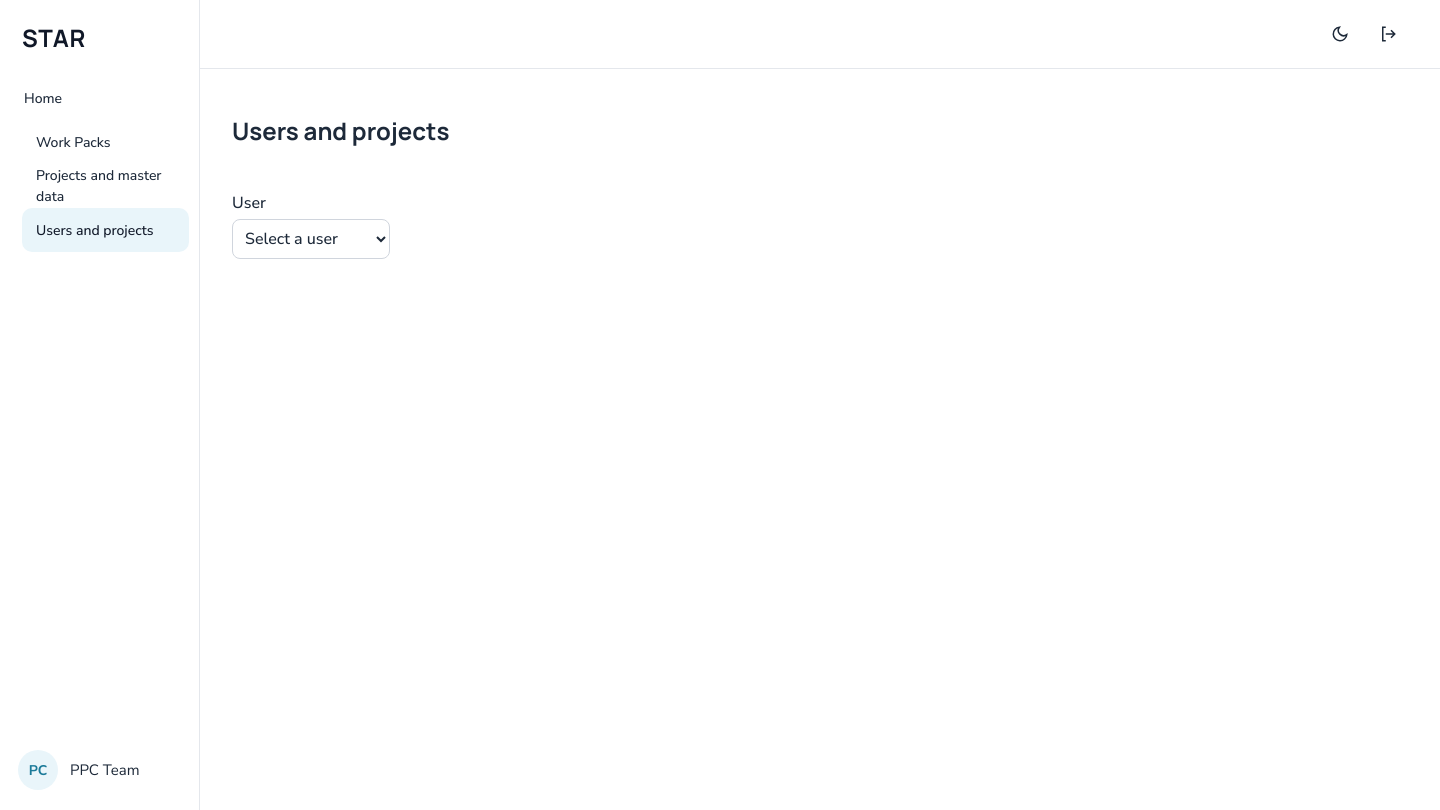
UsersPage › BPA76_unknownProjectIsRejected
This screenshot has width=1440, height=810.
Select "project-engineer" in the dropdown labelled "User". click: (311,239)
box: left=232, top=219, right=390, bottom=259
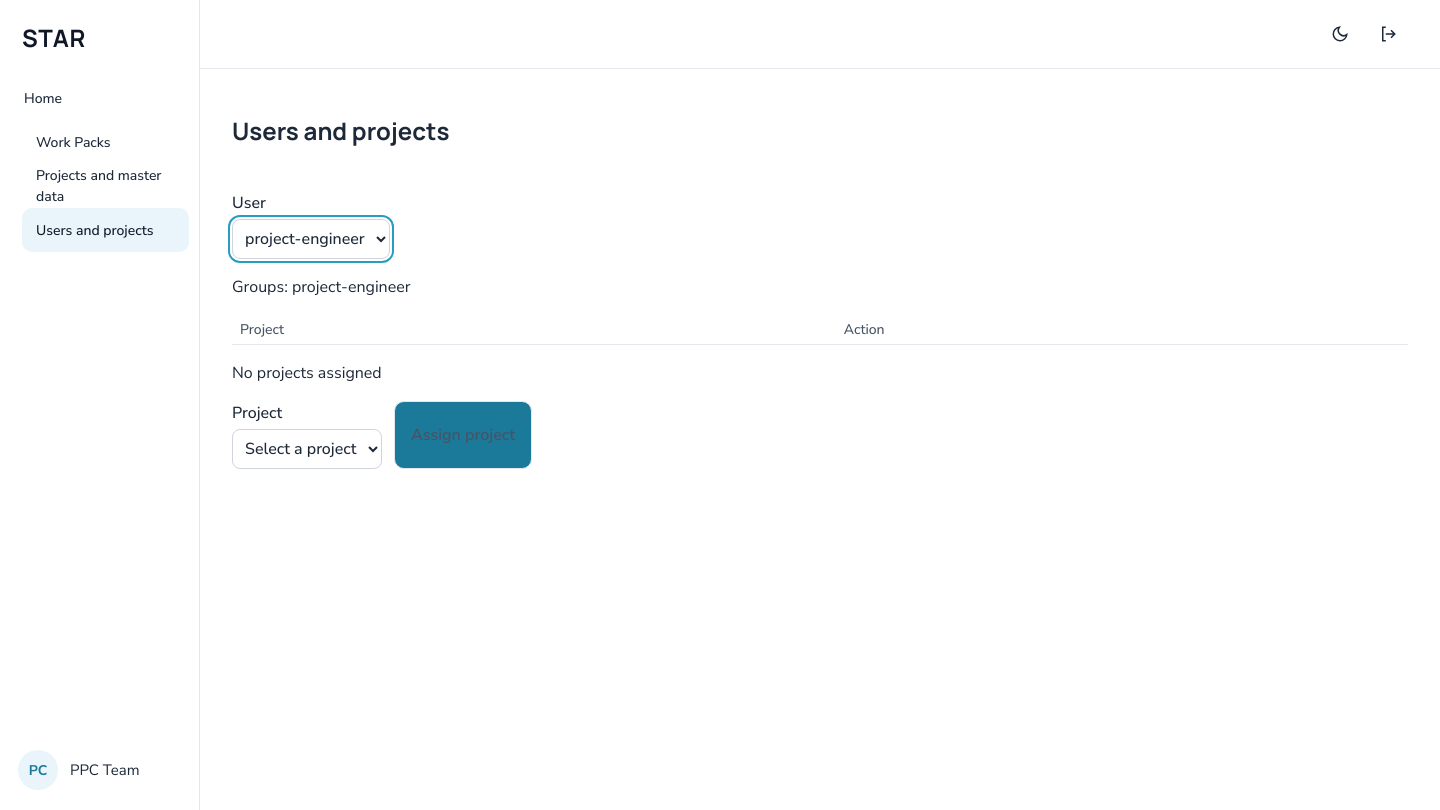
Select "PRJ-999" in the dropdown labelled "Project". click: (307,449)
box: left=232, top=429, right=382, bottom=469
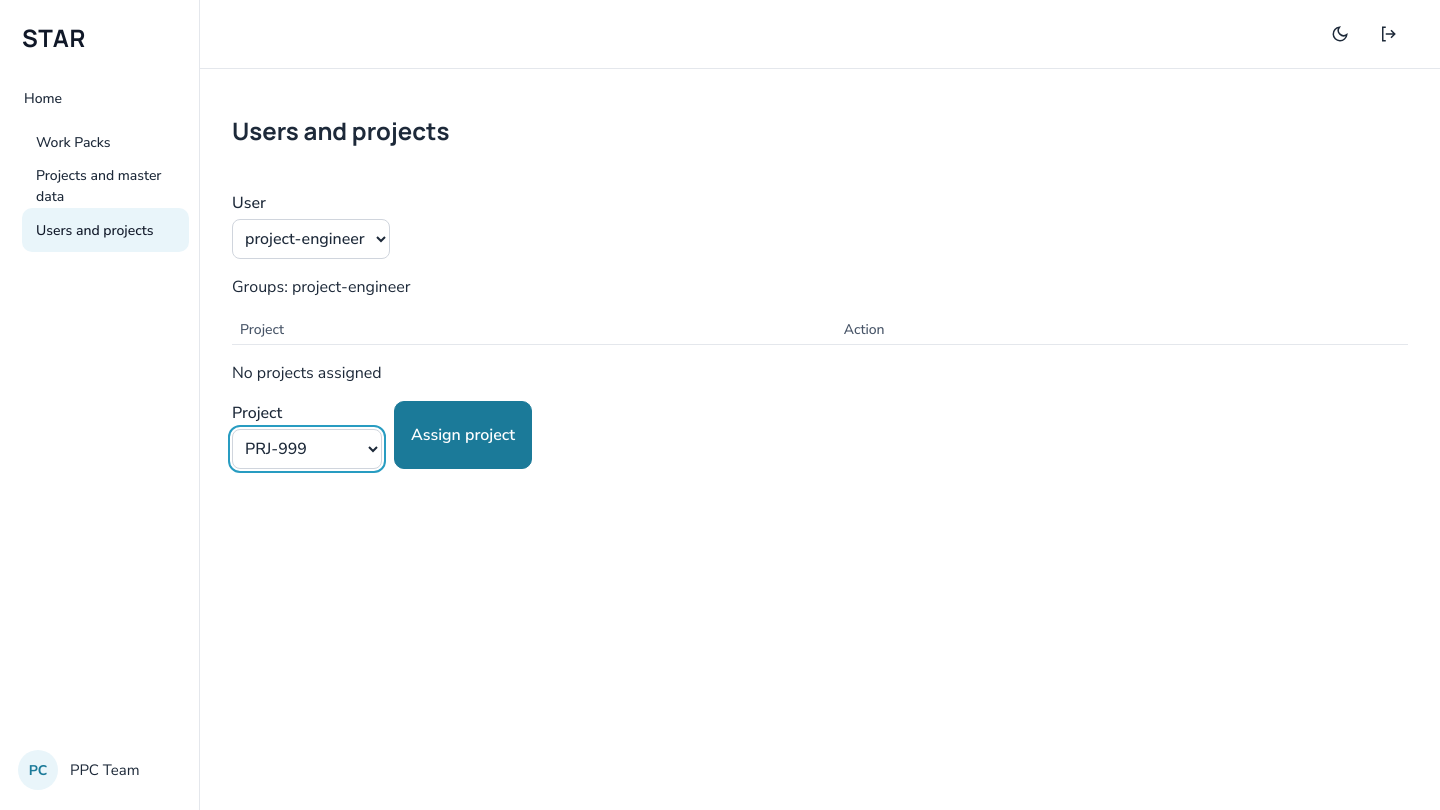
Click the button "Assign project". click: (463,435)
box: left=394, top=401, right=532, bottom=469
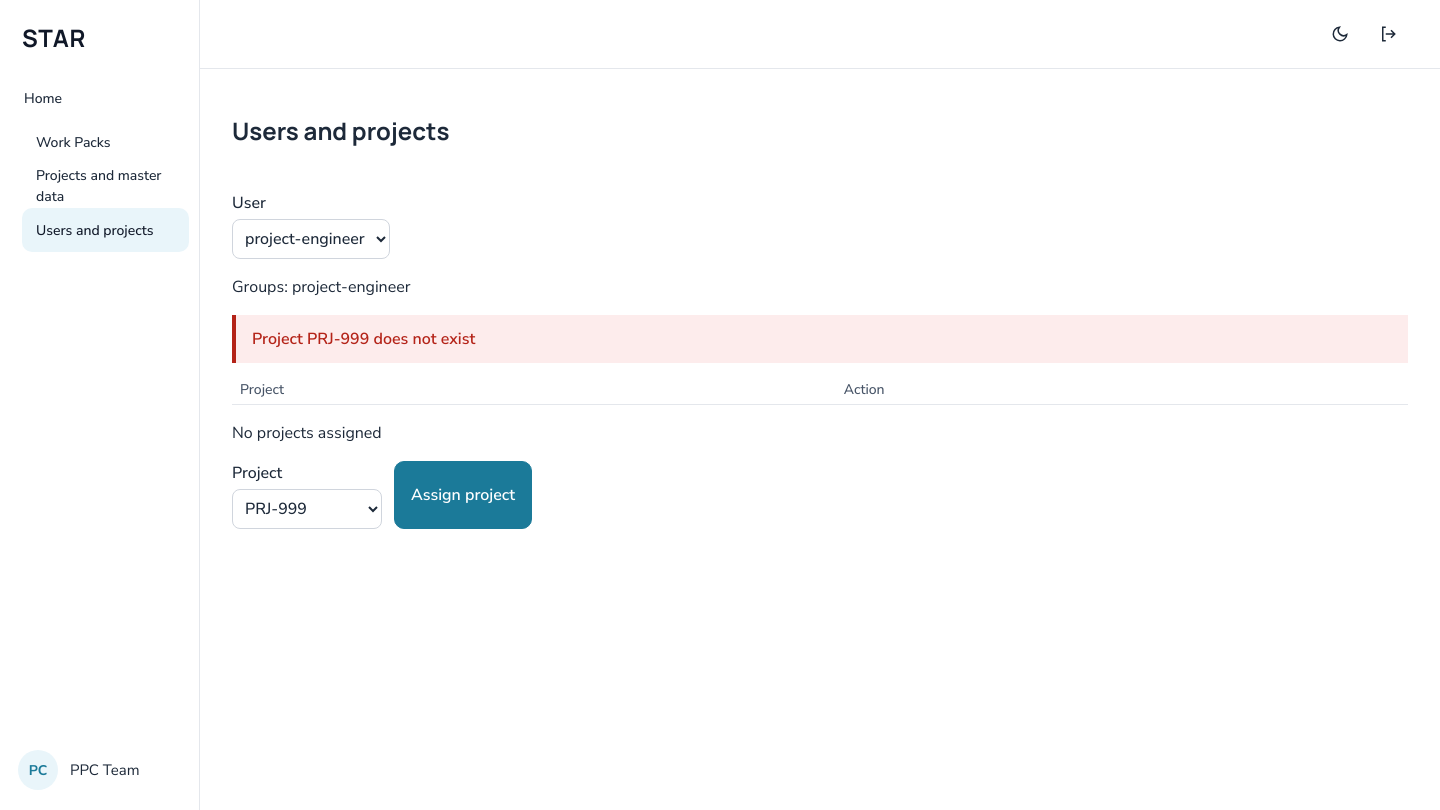
expect the message reads "Project PRJ-999 does not exist": met, box left=252, top=328, right=475, bottom=350
